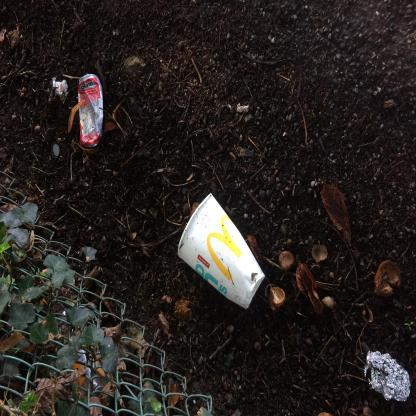karton: (179, 194, 268, 312)
metal: (365, 349, 413, 404), (79, 74, 105, 150), (53, 144, 61, 160)
